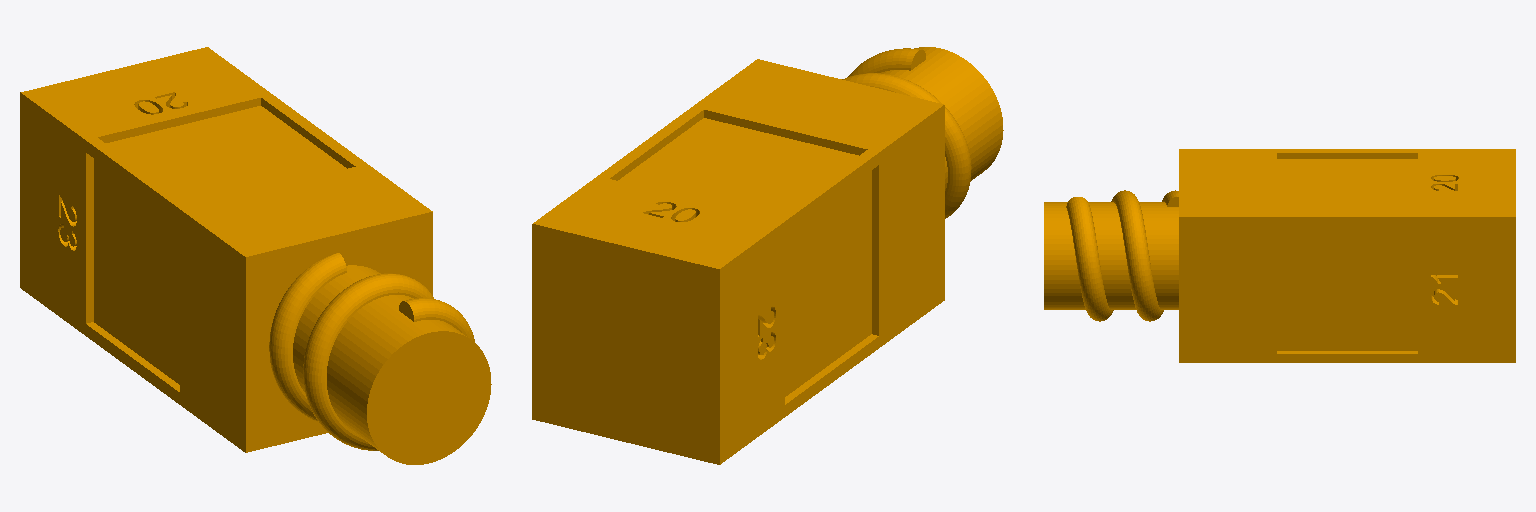
The robot description file, URDF, robot "square_table_leg4":
<?xml version="1.0"?>
<robot name="square_table_leg4">
    <link name="square_table_leg4">
        <visual>
            <geometry>
                <mesh filename="../mesh/square_table/square_table_leg4.obj" scale="1 1 1"/>
            </geometry>
        </visual>
        <collision>
            <geometry>
                <mesh filename="../mesh/square_table/square_table_leg4.obj" scale="1 1 1"/>
            </geometry>
            <sdf resolution="512"/>
        </collision>
    </link>
</robot>

--- What the picture shows (computed from the rendered views, not written in the file) ---
3 views of the same robot in one strip: view 1: azimuth 30°, elevation 25°; view 2: azimuth 150°, elevation 25°; view 3: azimuth 270°, elevation 25° (orthographic).
Model square_table_leg4 with 1 links and 0 joints (none), rooted at square_table_leg4, posed all joints at 0.
Visible links, largest first — view 1: square_table_leg4; view 2: square_table_leg4; view 3: square_table_leg4.
Boxes of the visible links, x1,y1,x2,y2 form: square_table_leg4: (20, 47, 491, 464); square_table_leg4: (532, 47, 1003, 464); square_table_leg4: (1044, 149, 1515, 362).
Size in the robot's own frame: 0.03 by 0.0875 by 0.03 metres.
Meshes: 1 distinct files referenced, 1 mesh visuals loaded (1 OBJ).